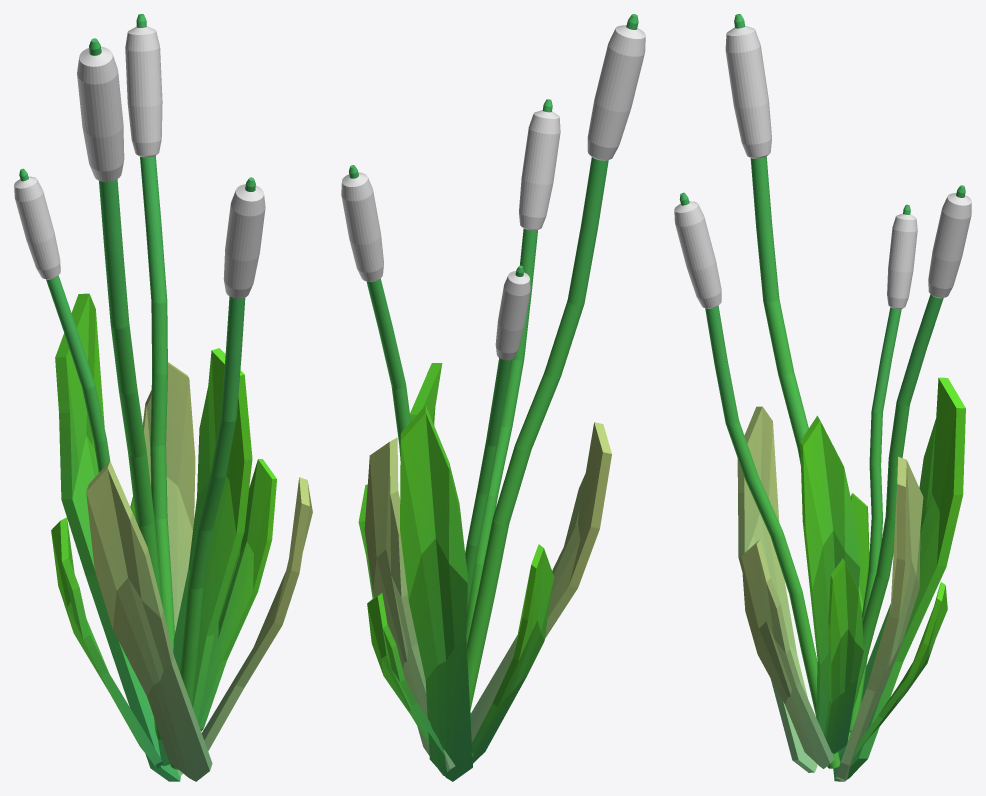
File: CatTails.fbx
The picture shows the model from 3 angles, left to right: view 1: azimuth 30°, elevation 25°; view 2: azimuth 150°, elevation 25°; view 3: azimuth 270°, elevation 25°; orthographic projection. The views are drawn at different scales.
Visible parts, largest first — view 1: Plane.006, Plane.004, Plane.008, CatTailStem.001, CatTailStem.002, CatTailStem, Plane.002, Plane.003, CatTail.001, Plane.001, CatTail.002, Plane.005 (+3 smaller); view 2: Plane.004, CatTailStem.001, Plane.003, Plane.006, CatTail.001, Plane.005, CatTailStem, CatTail, CatTail.002, CatTailStem.003, Plane.007, CatTailStem.002 (+2 smaller); view 3: Plane.004, Plane.008, Plane.003, Plane.001, Plane.006, CatTailStem, Plane.002, CatTailStem.002, CatTailStem.001, CatTail.001, CatTailStem.003, CatTail (+4 smaller).
Part boxes in pixels (x1,y1,x2,y2): Plane.006: (86,461,212,781); Plane.004: (55,293,180,781); Plane.008: (158,348,252,766); CatTailStem.001: (89,38,162,739); CatTailStem.002: (136,14,174,651); CatTailStem: (170,177,255,769); Plane.002: (198,459,276,731); Plane.003: (143,362,195,776); CatTail.001: (77,46,124,181); Plane.001: (201,477,312,750); CatTail.002: (125,26,162,157); Plane.005: (51,517,163,768); Plane.004: (400,405,472,781); CatTailStem.001: (467,14,638,710); Plane.003: (364,437,455,775); Plane.006: (470,422,611,742); CatTail.001: (587,25,645,160); Plane.005: (471,544,554,763); CatTailStem: (466,99,552,642); CatTail: (519,110,560,230); CatTail.002: (341,172,383,281); CatTailStem.003: (465,265,523,612); Plane.007: (367,593,444,755); CatTailStem.002: (349,165,410,460); Plane.004: (833,377,965,781); Plane.008: (800,415,860,756); Plane.003: (836,456,923,781); Plane.001: (741,539,834,768); Plane.006: (737,406,817,772); CatTailStem: (679,192,840,768); Plane.002: (824,558,863,753); CatTailStem.002: (853,185,965,707); CatTailStem.001: (734,14,850,740); CatTail.001: (725,25,771,158); CatTailStem.003: (849,204,910,730); CatTail: (674,201,721,308).
Size of the model in its own units: 163 by 514 by 195.
